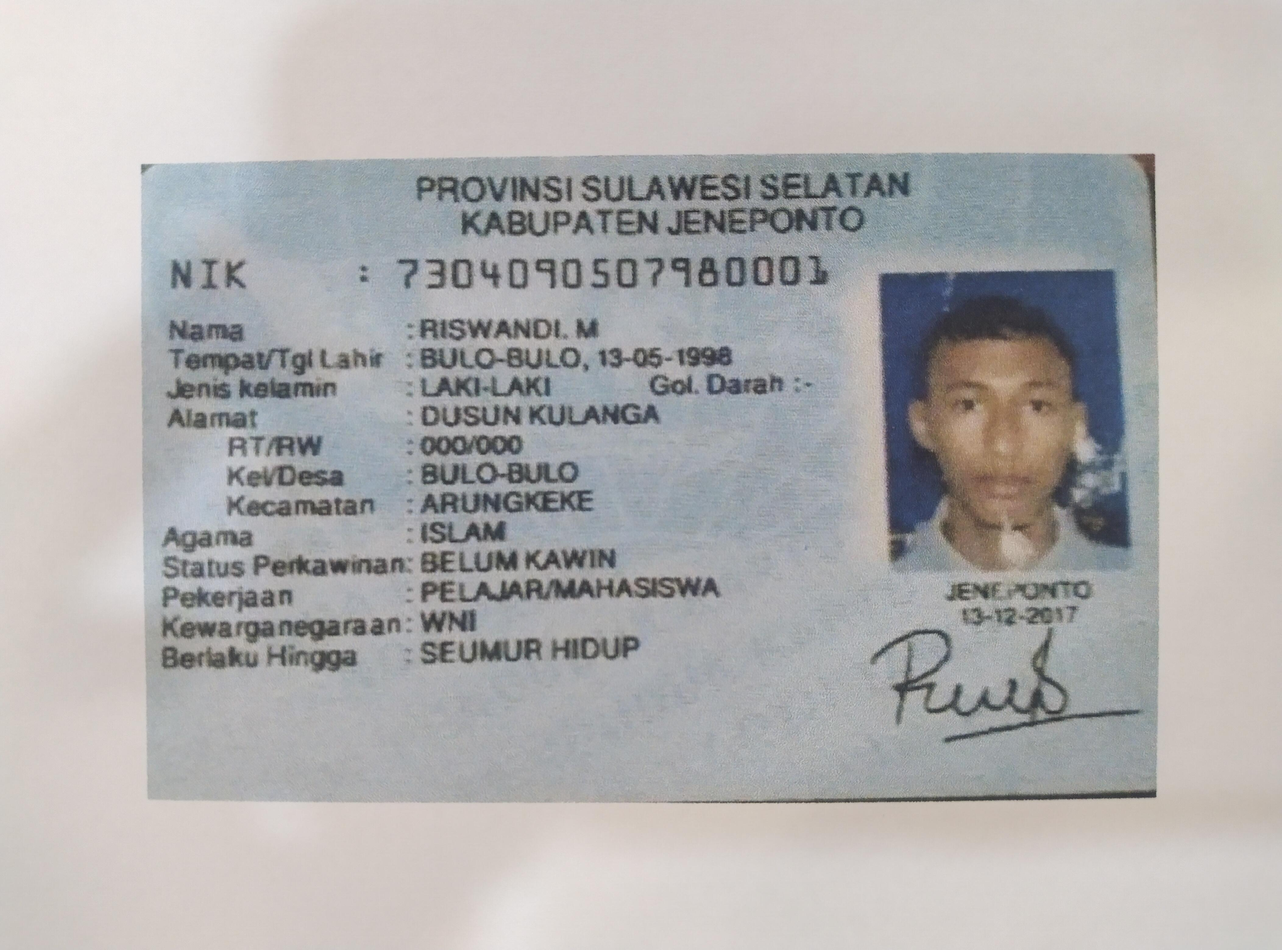ID-card: (149, 153, 1155, 799)
